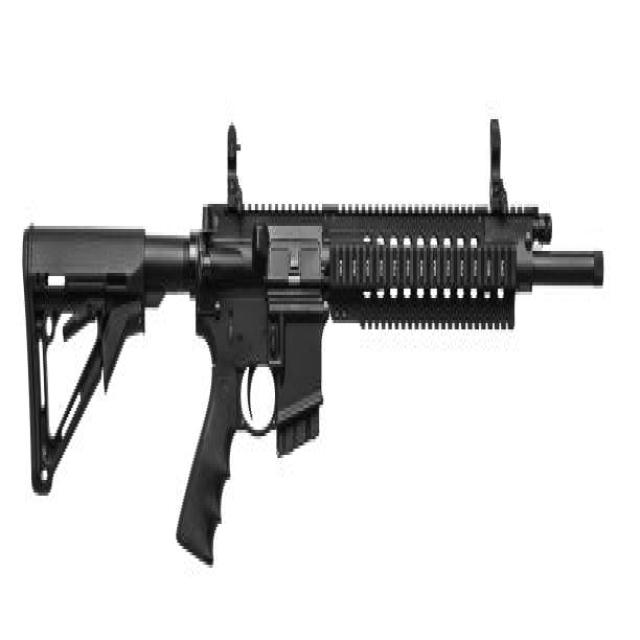rifle: (21, 97, 609, 589)
